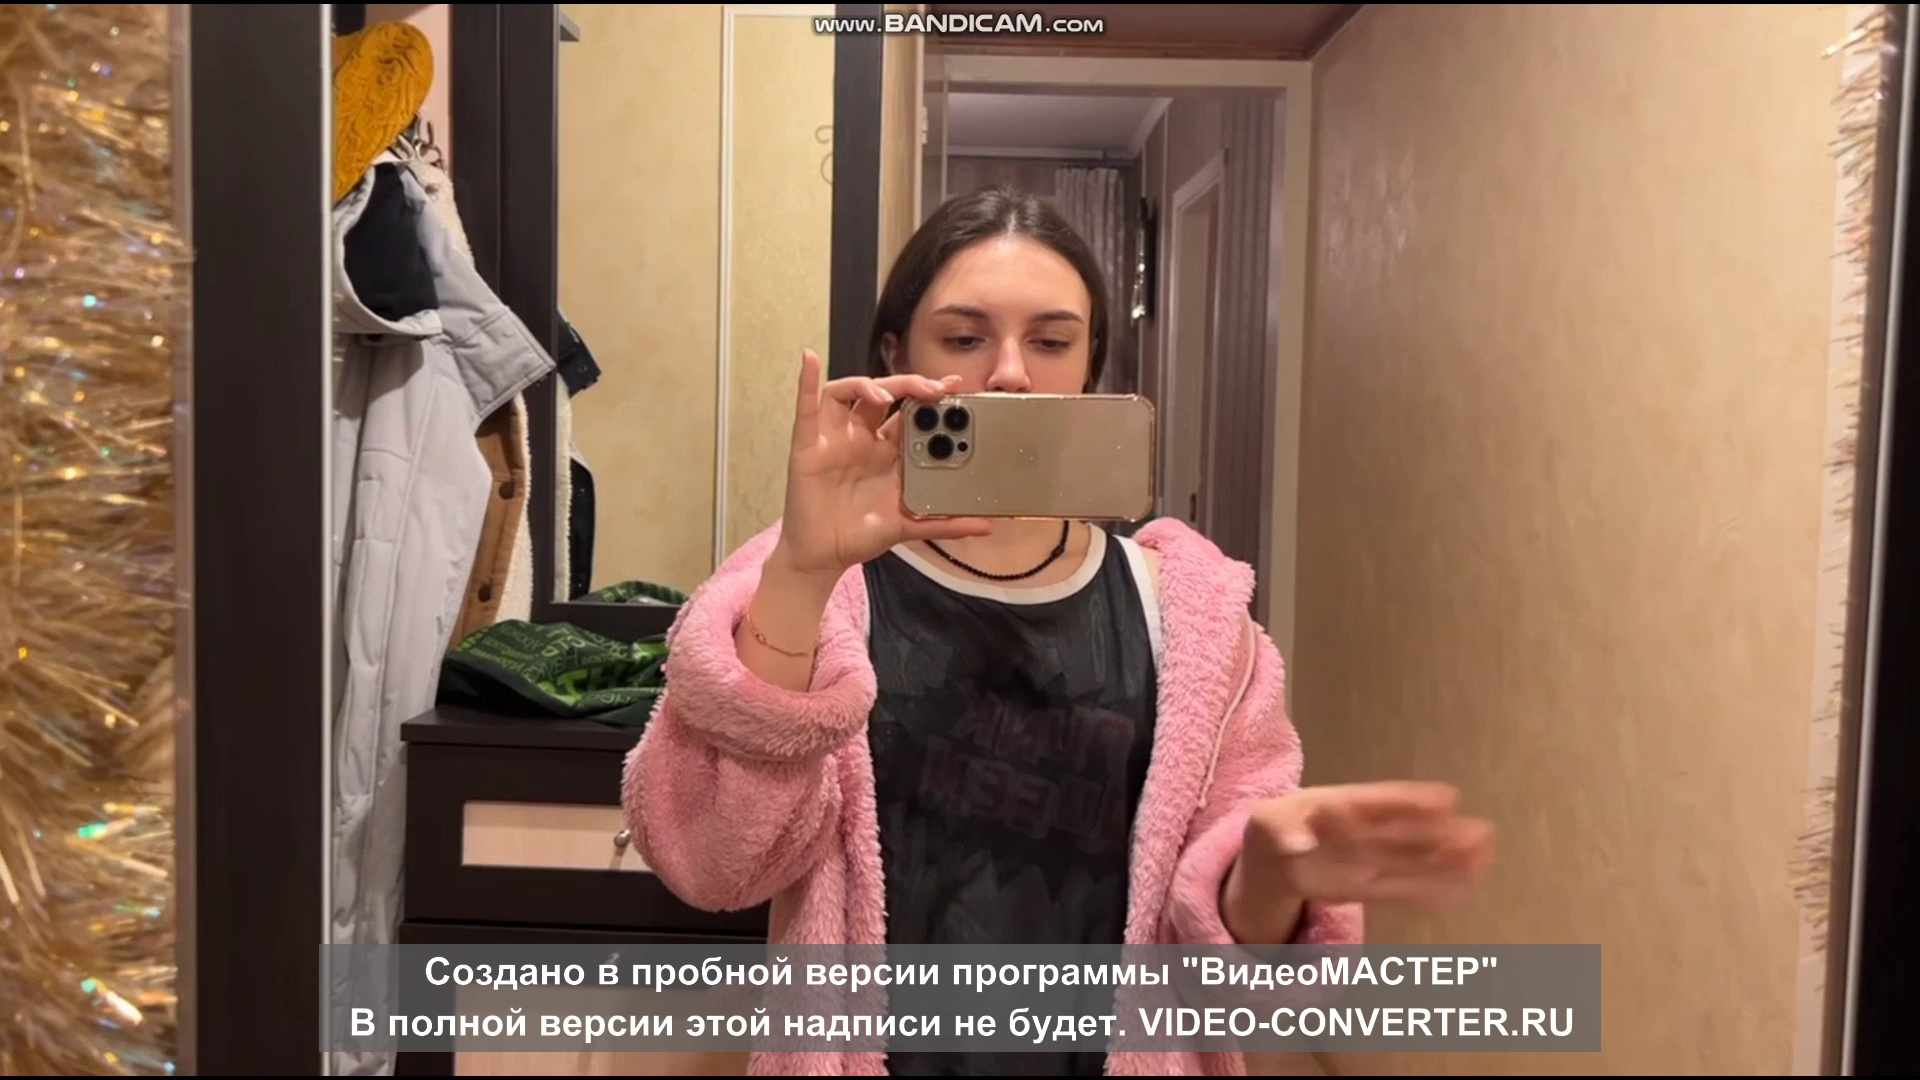Ладонь: (1244, 785, 1493, 903)
